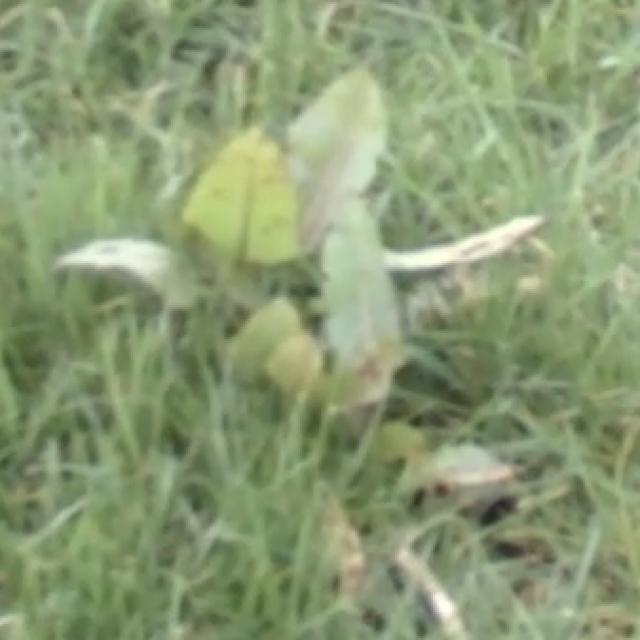organic waste: (44, 66, 560, 424)
